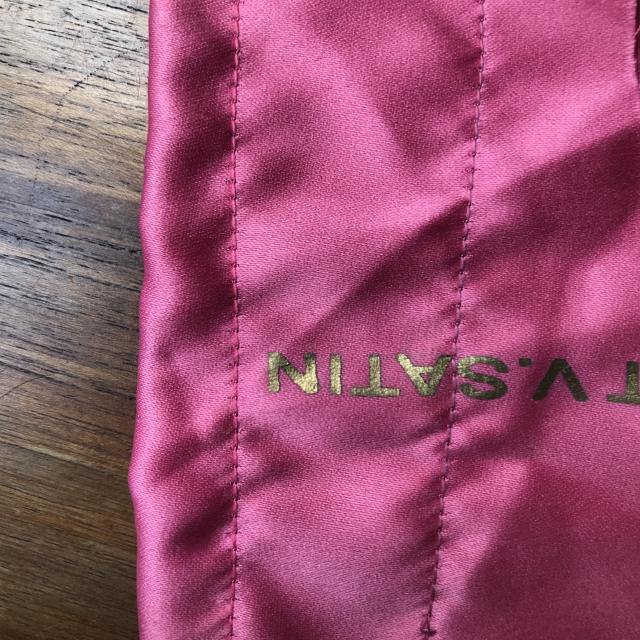good: (206, 187, 258, 310)
